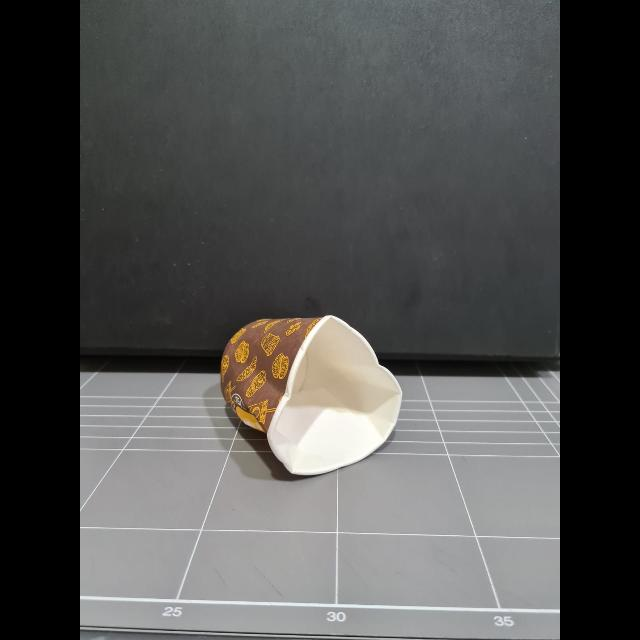trash: (220, 298, 410, 482)
